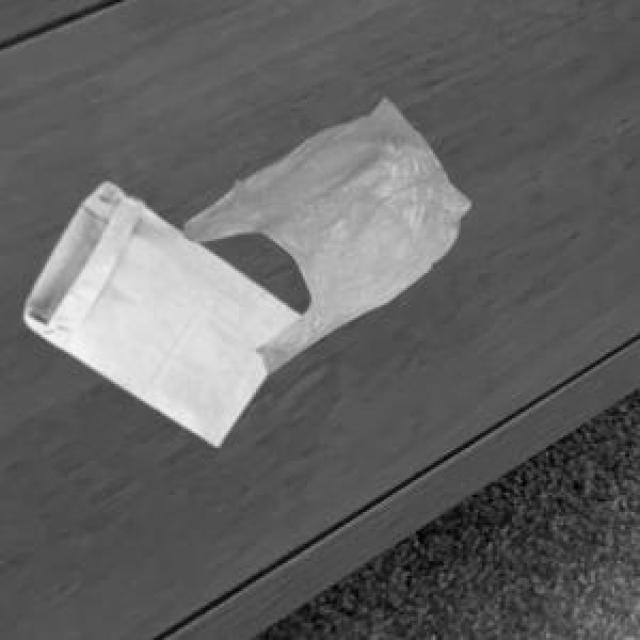paper: (21, 179, 297, 442)
